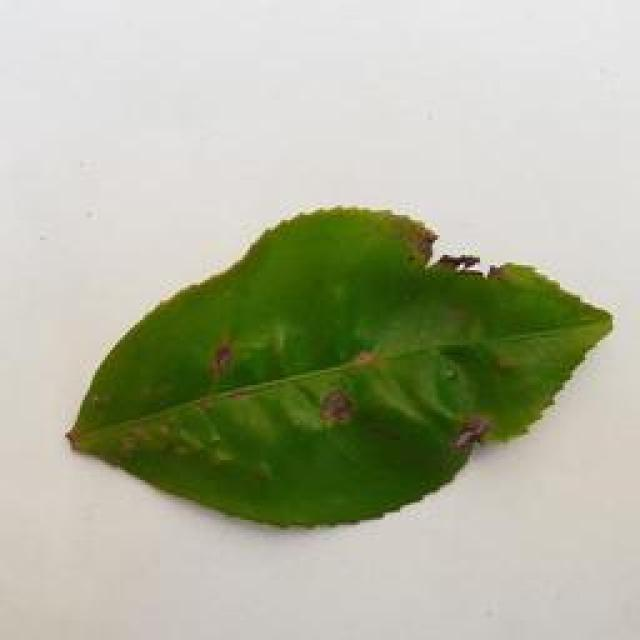Helopeltis: (64, 201, 619, 533)
